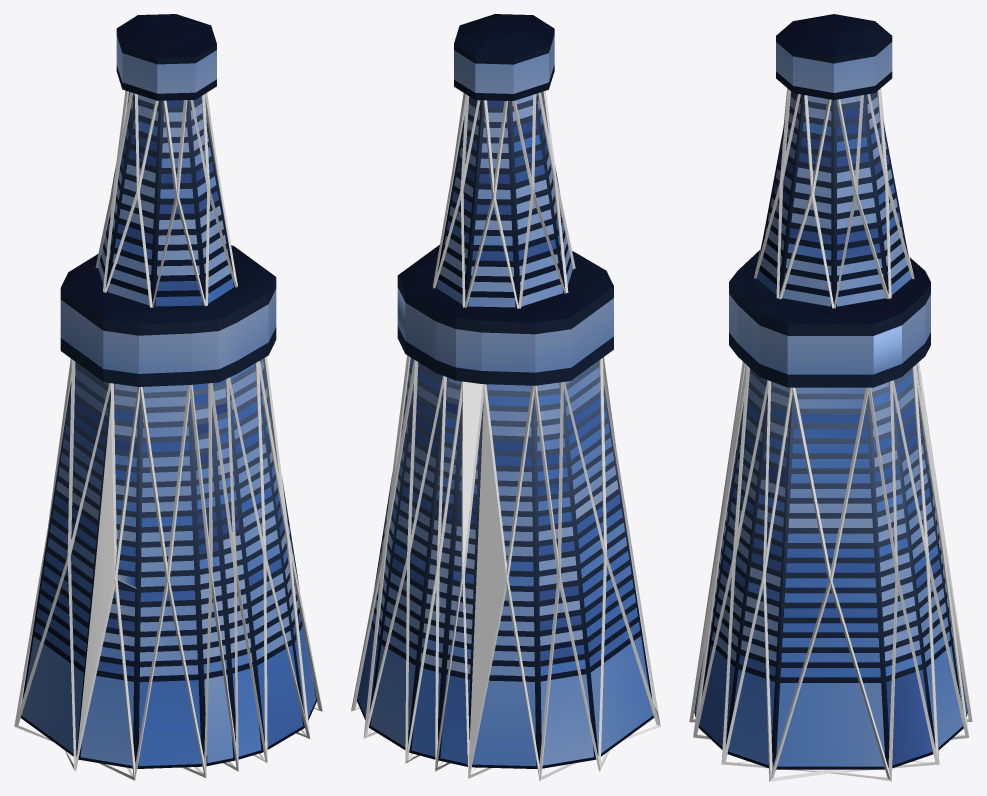
File: DttT_Tower.fbx
3 renders of one model, left to right at view 1: azimuth 30°, elevation 25°; view 2: azimuth 150°, elevation 25°; view 3: azimuth 270°, elevation 25°, orthographic.
Visible parts, largest first — view 1: Tower, Checkpoint; view 2: Tower, Checkpoint; view 3: Tower, Checkpoint.
Boxes of the visible parts, x1,y1,x2,y2 form: Tower: [14, 14, 322, 781]; Checkpoint: [60, 245, 276, 335]; Tower: [351, 14, 660, 781]; Checkpoint: [397, 244, 613, 334]; Tower: [689, 14, 972, 781]; Checkpoint: [729, 250, 930, 335].
Bounding box in the file's own units: 37775 × 100849 × 37109.
